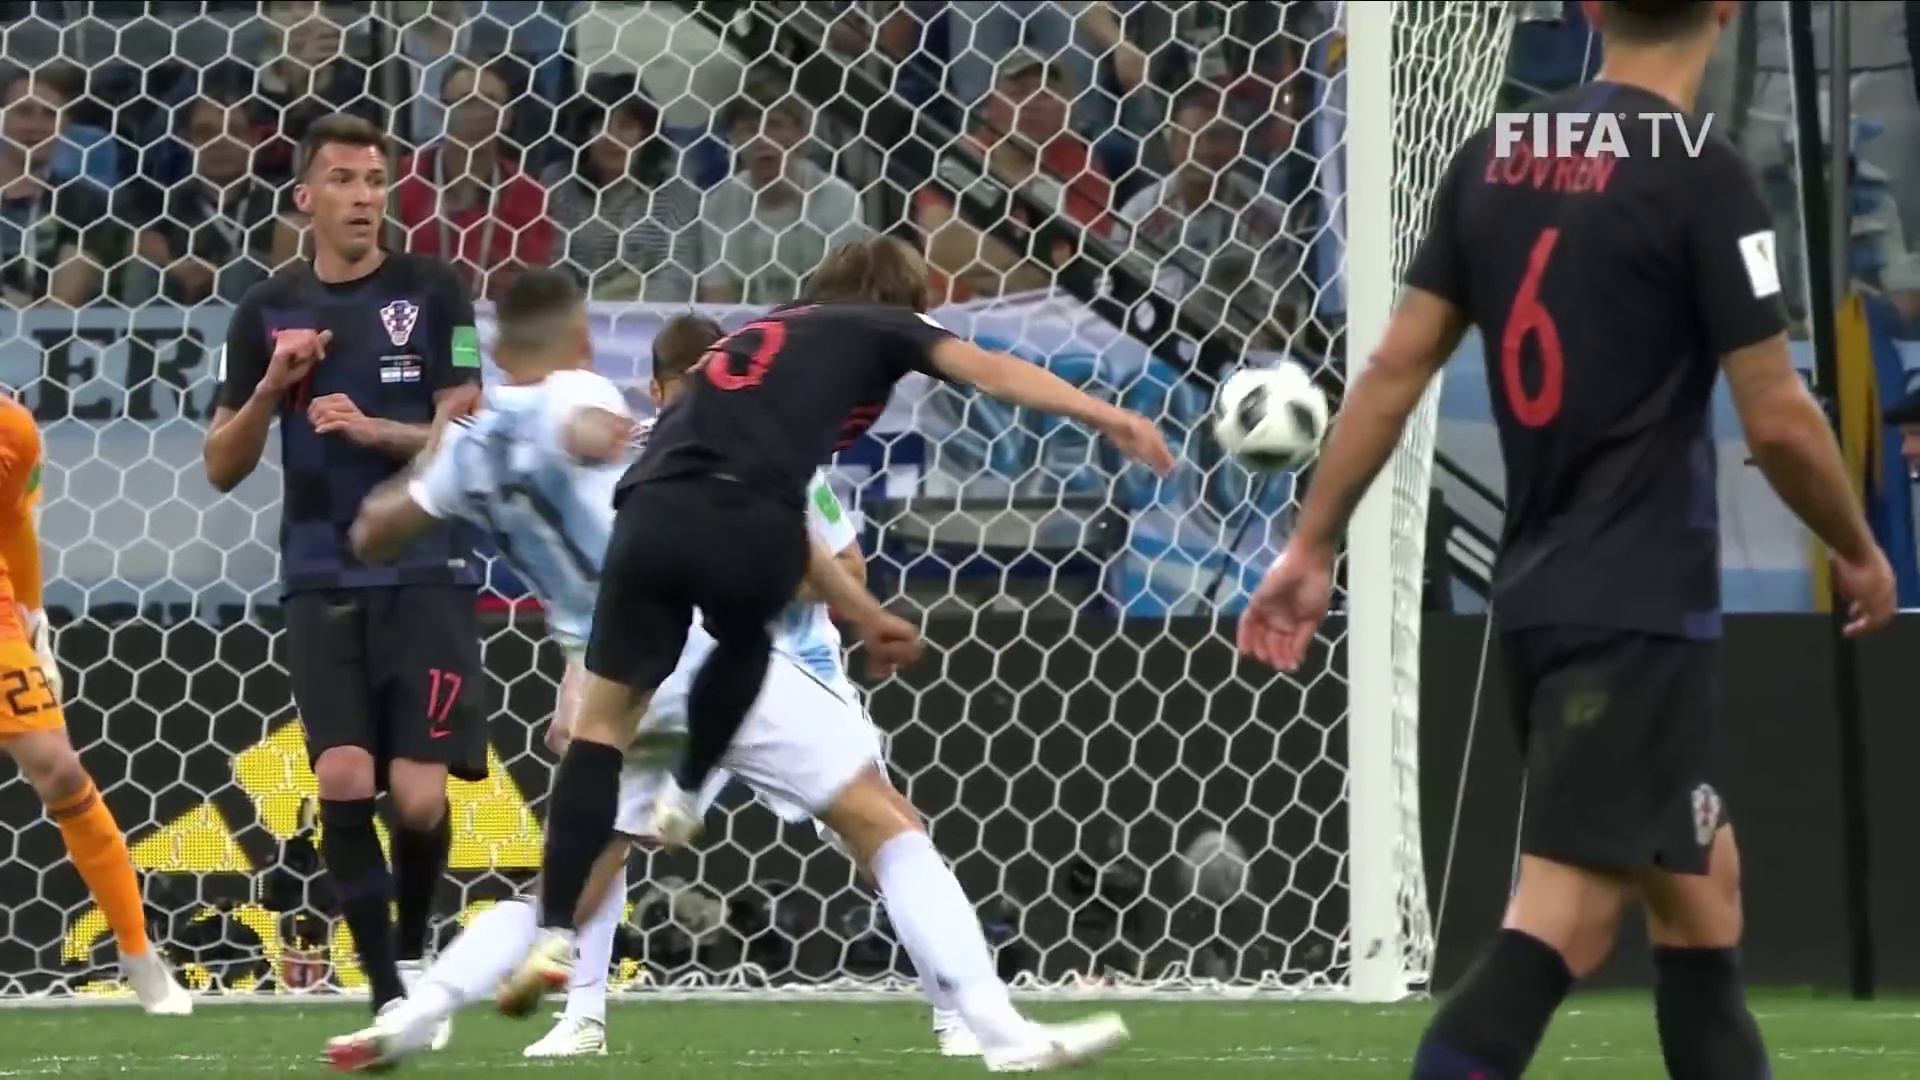ball: (1214, 357, 1318, 463)
person: (381, 259, 1107, 1074), (1310, 8, 1786, 1080), (548, 206, 934, 1018), (218, 108, 485, 1055)
